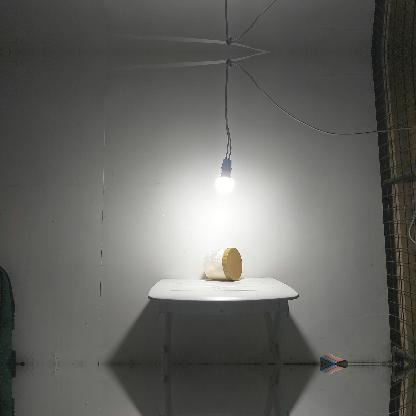Lady-s-Choice: (203, 247, 241, 280)
